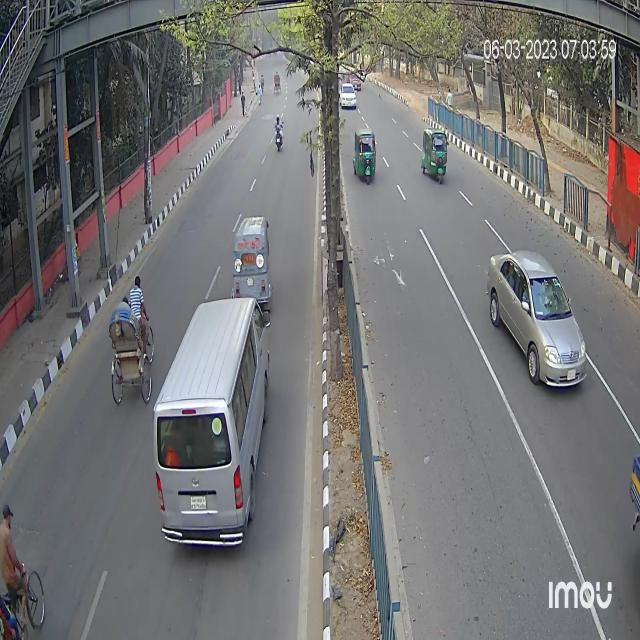cng: (232, 204, 278, 316), (419, 124, 452, 188), (353, 130, 378, 190)
rikshaw: (102, 275, 161, 407), (272, 71, 281, 94)
